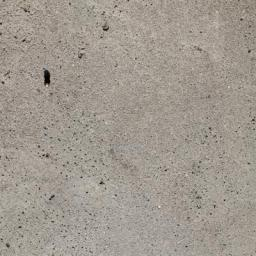FOD: (41, 67, 55, 91)
